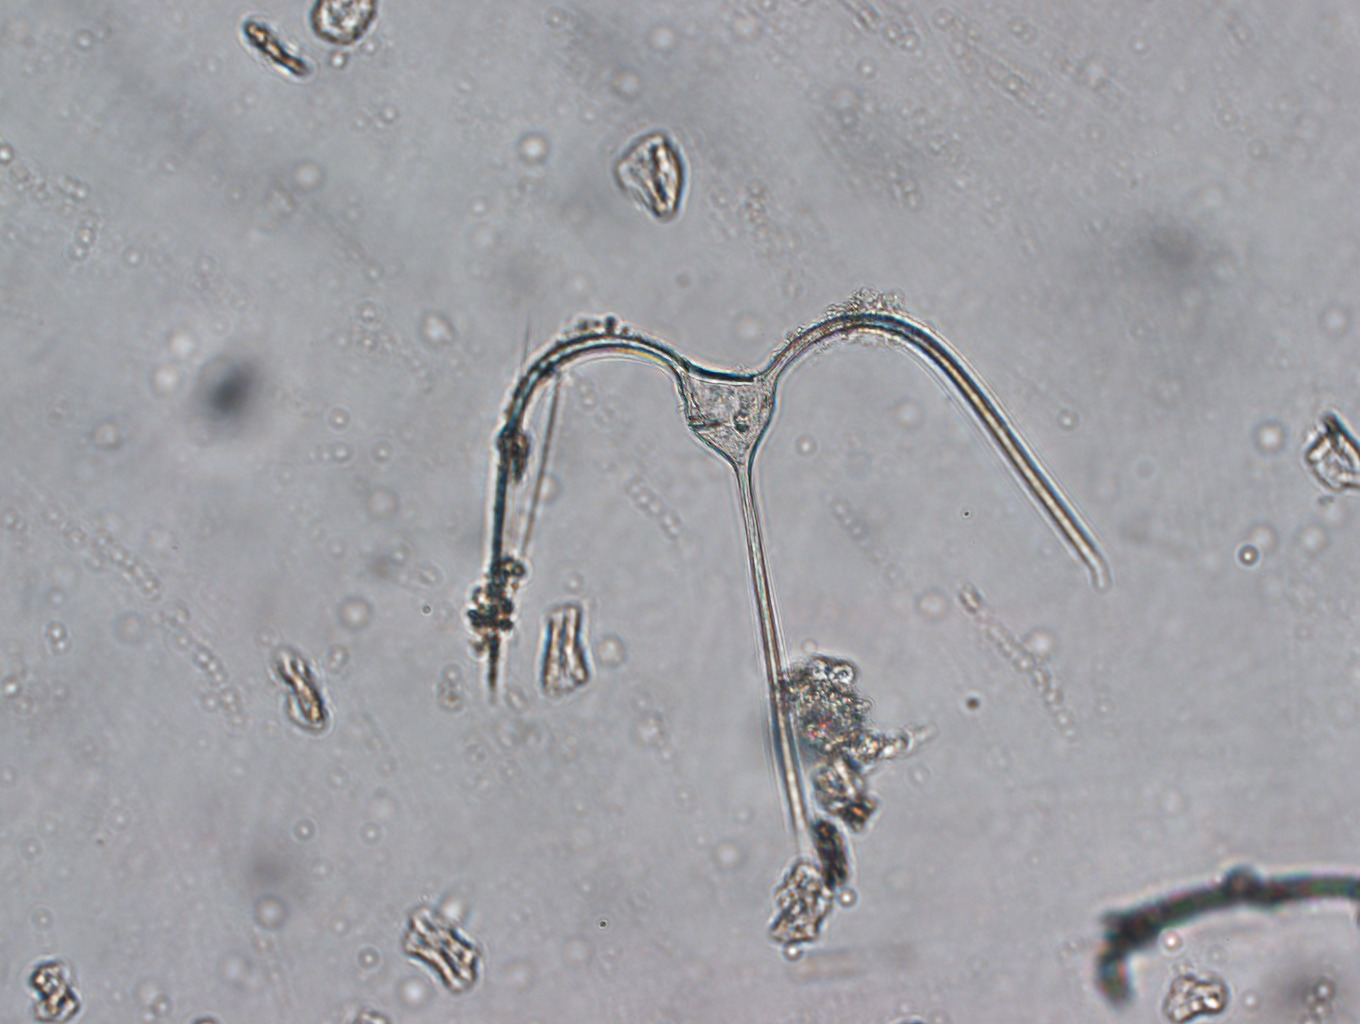ceratium trichoceros: (487, 312, 1112, 855)
